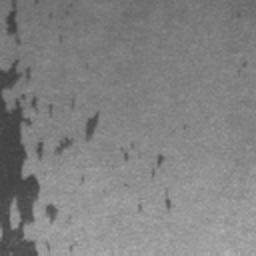Red iron sheet: (0, 58, 40, 256), (5, 0, 22, 45), (86, 111, 100, 141), (151, 155, 164, 178), (55, 137, 72, 154), (46, 205, 56, 220), (120, 147, 129, 160), (29, 96, 37, 108), (37, 141, 42, 157), (165, 198, 170, 209)
